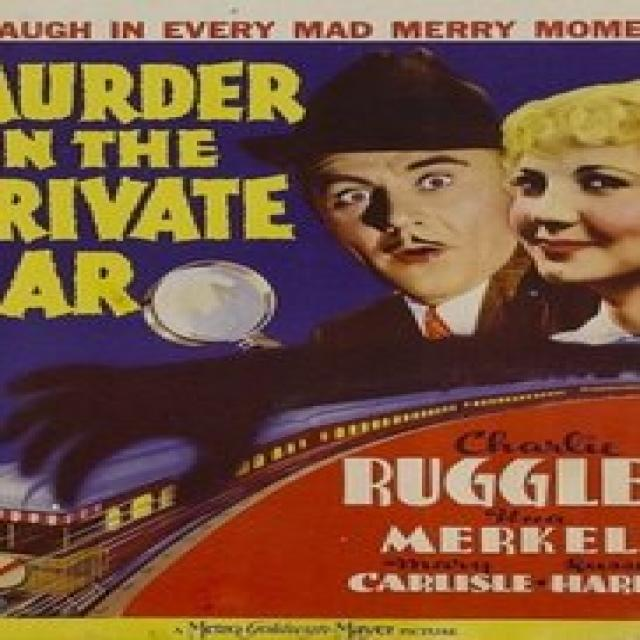movie-judul: (3, 56, 295, 324)
picture: (258, 47, 640, 401)
